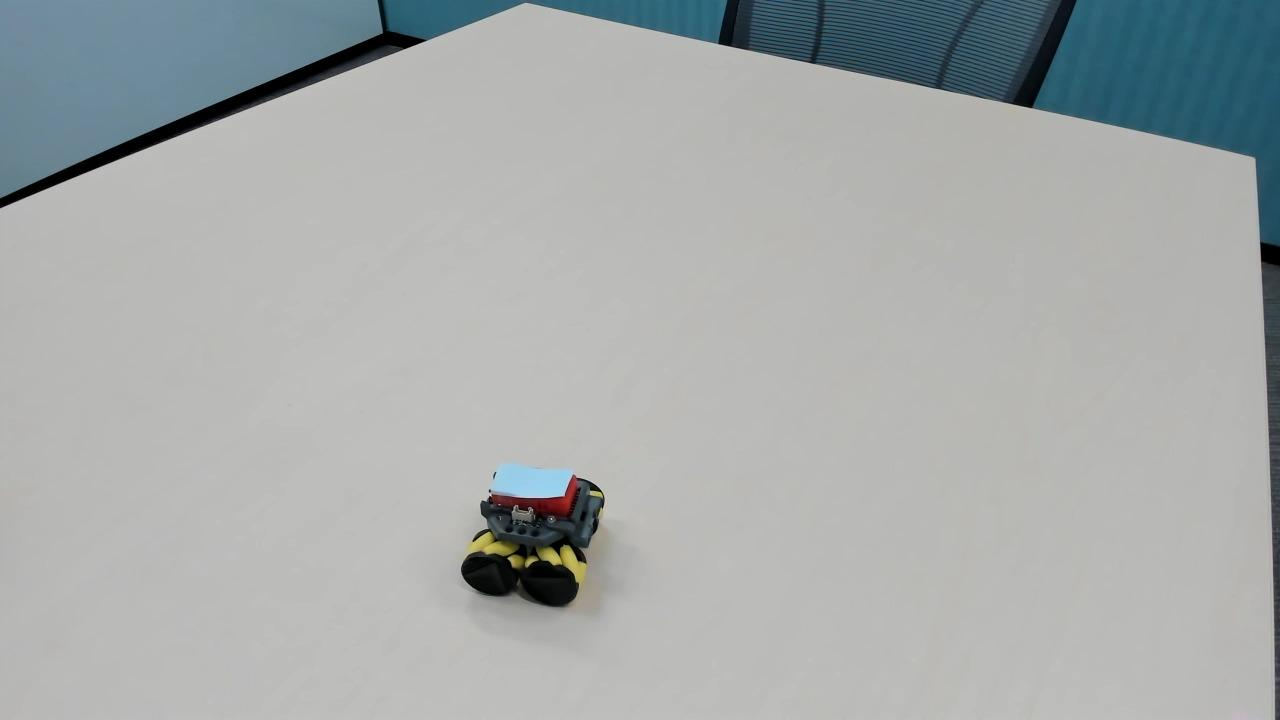B-Robot: (443, 448, 626, 610)
